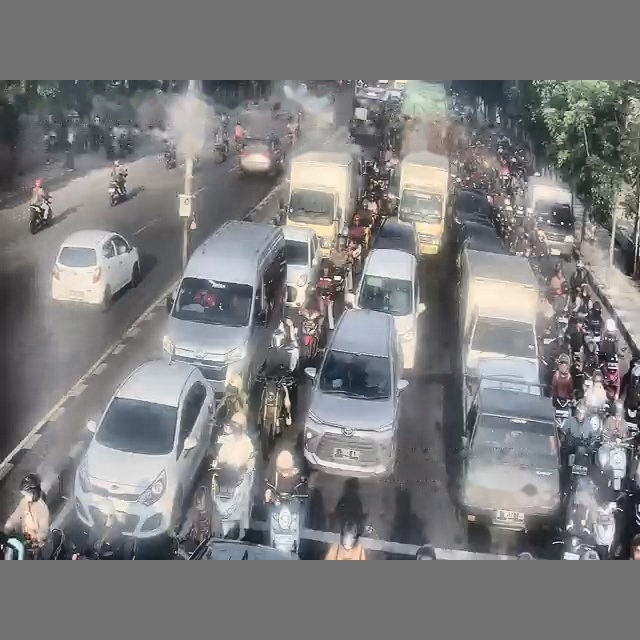Mobil: (74, 360, 213, 538), (303, 309, 407, 477), (462, 385, 560, 530), (353, 249, 424, 369), (51, 230, 140, 309), (282, 225, 320, 308), (188, 538, 298, 559), (372, 217, 418, 258), (239, 134, 284, 174), (457, 221, 507, 253), (454, 190, 489, 218)
Motor: (257, 367, 295, 458), (211, 460, 253, 538), (265, 480, 307, 553), (299, 309, 322, 365), (29, 197, 52, 234), (108, 172, 126, 206)
Truk: (459, 249, 539, 410), (286, 145, 361, 256), (398, 151, 449, 255), (525, 176, 574, 257)
